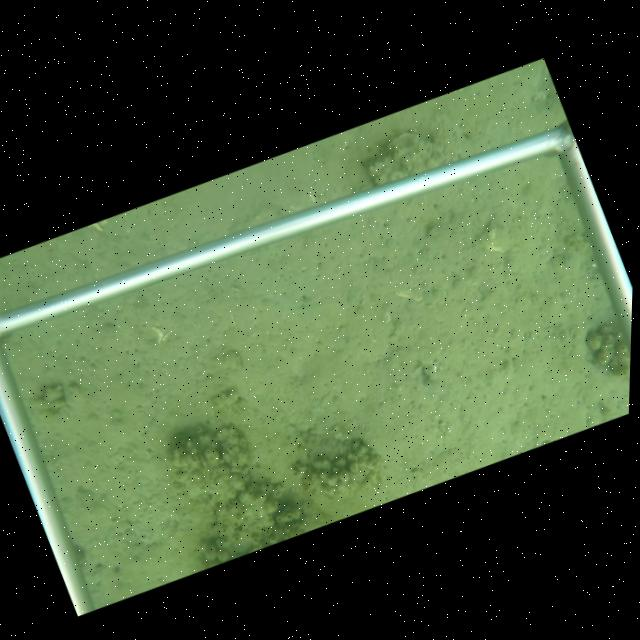Oyster-Indeterminate: (367, 130, 433, 186)
